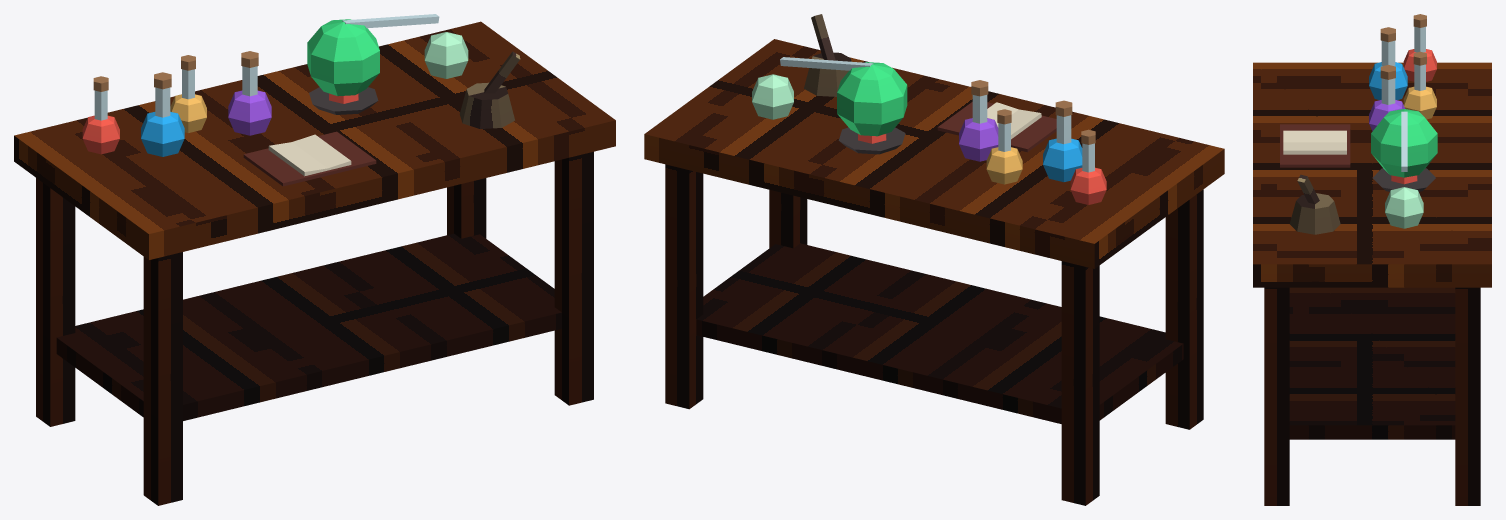
Rendered from alchemy_table.glb.
3 renders of one model, left to right at view 1: azimuth 30°, elevation 25°; view 2: azimuth 150°, elevation 25°; view 3: azimuth 270°, elevation 25°, orthographic. The views are drawn at different scales.
Visible parts, largest first — view 1: alchemy_table; view 2: alchemy_table; view 3: alchemy_table.
Boxes of the visible parts, box(x1,y1,x2,y2) form: alchemy_table: box(14, 14, 615, 505); alchemy_table: box(644, 14, 1224, 505); alchemy_table: box(1253, 14, 1491, 505).
Size of the model in its own units: 1.5 by 1.11 by 0.75.
Materials: 4 (2 with a texture image).
